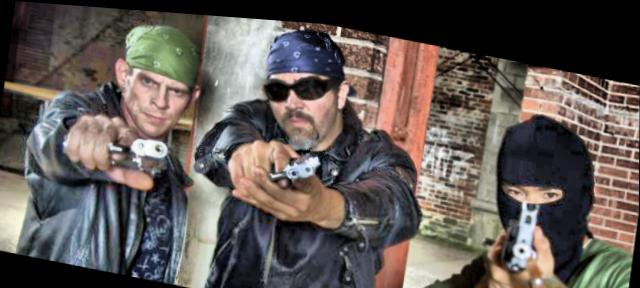pistol: (231, 135, 319, 211), (60, 116, 169, 171), (484, 190, 541, 288)
